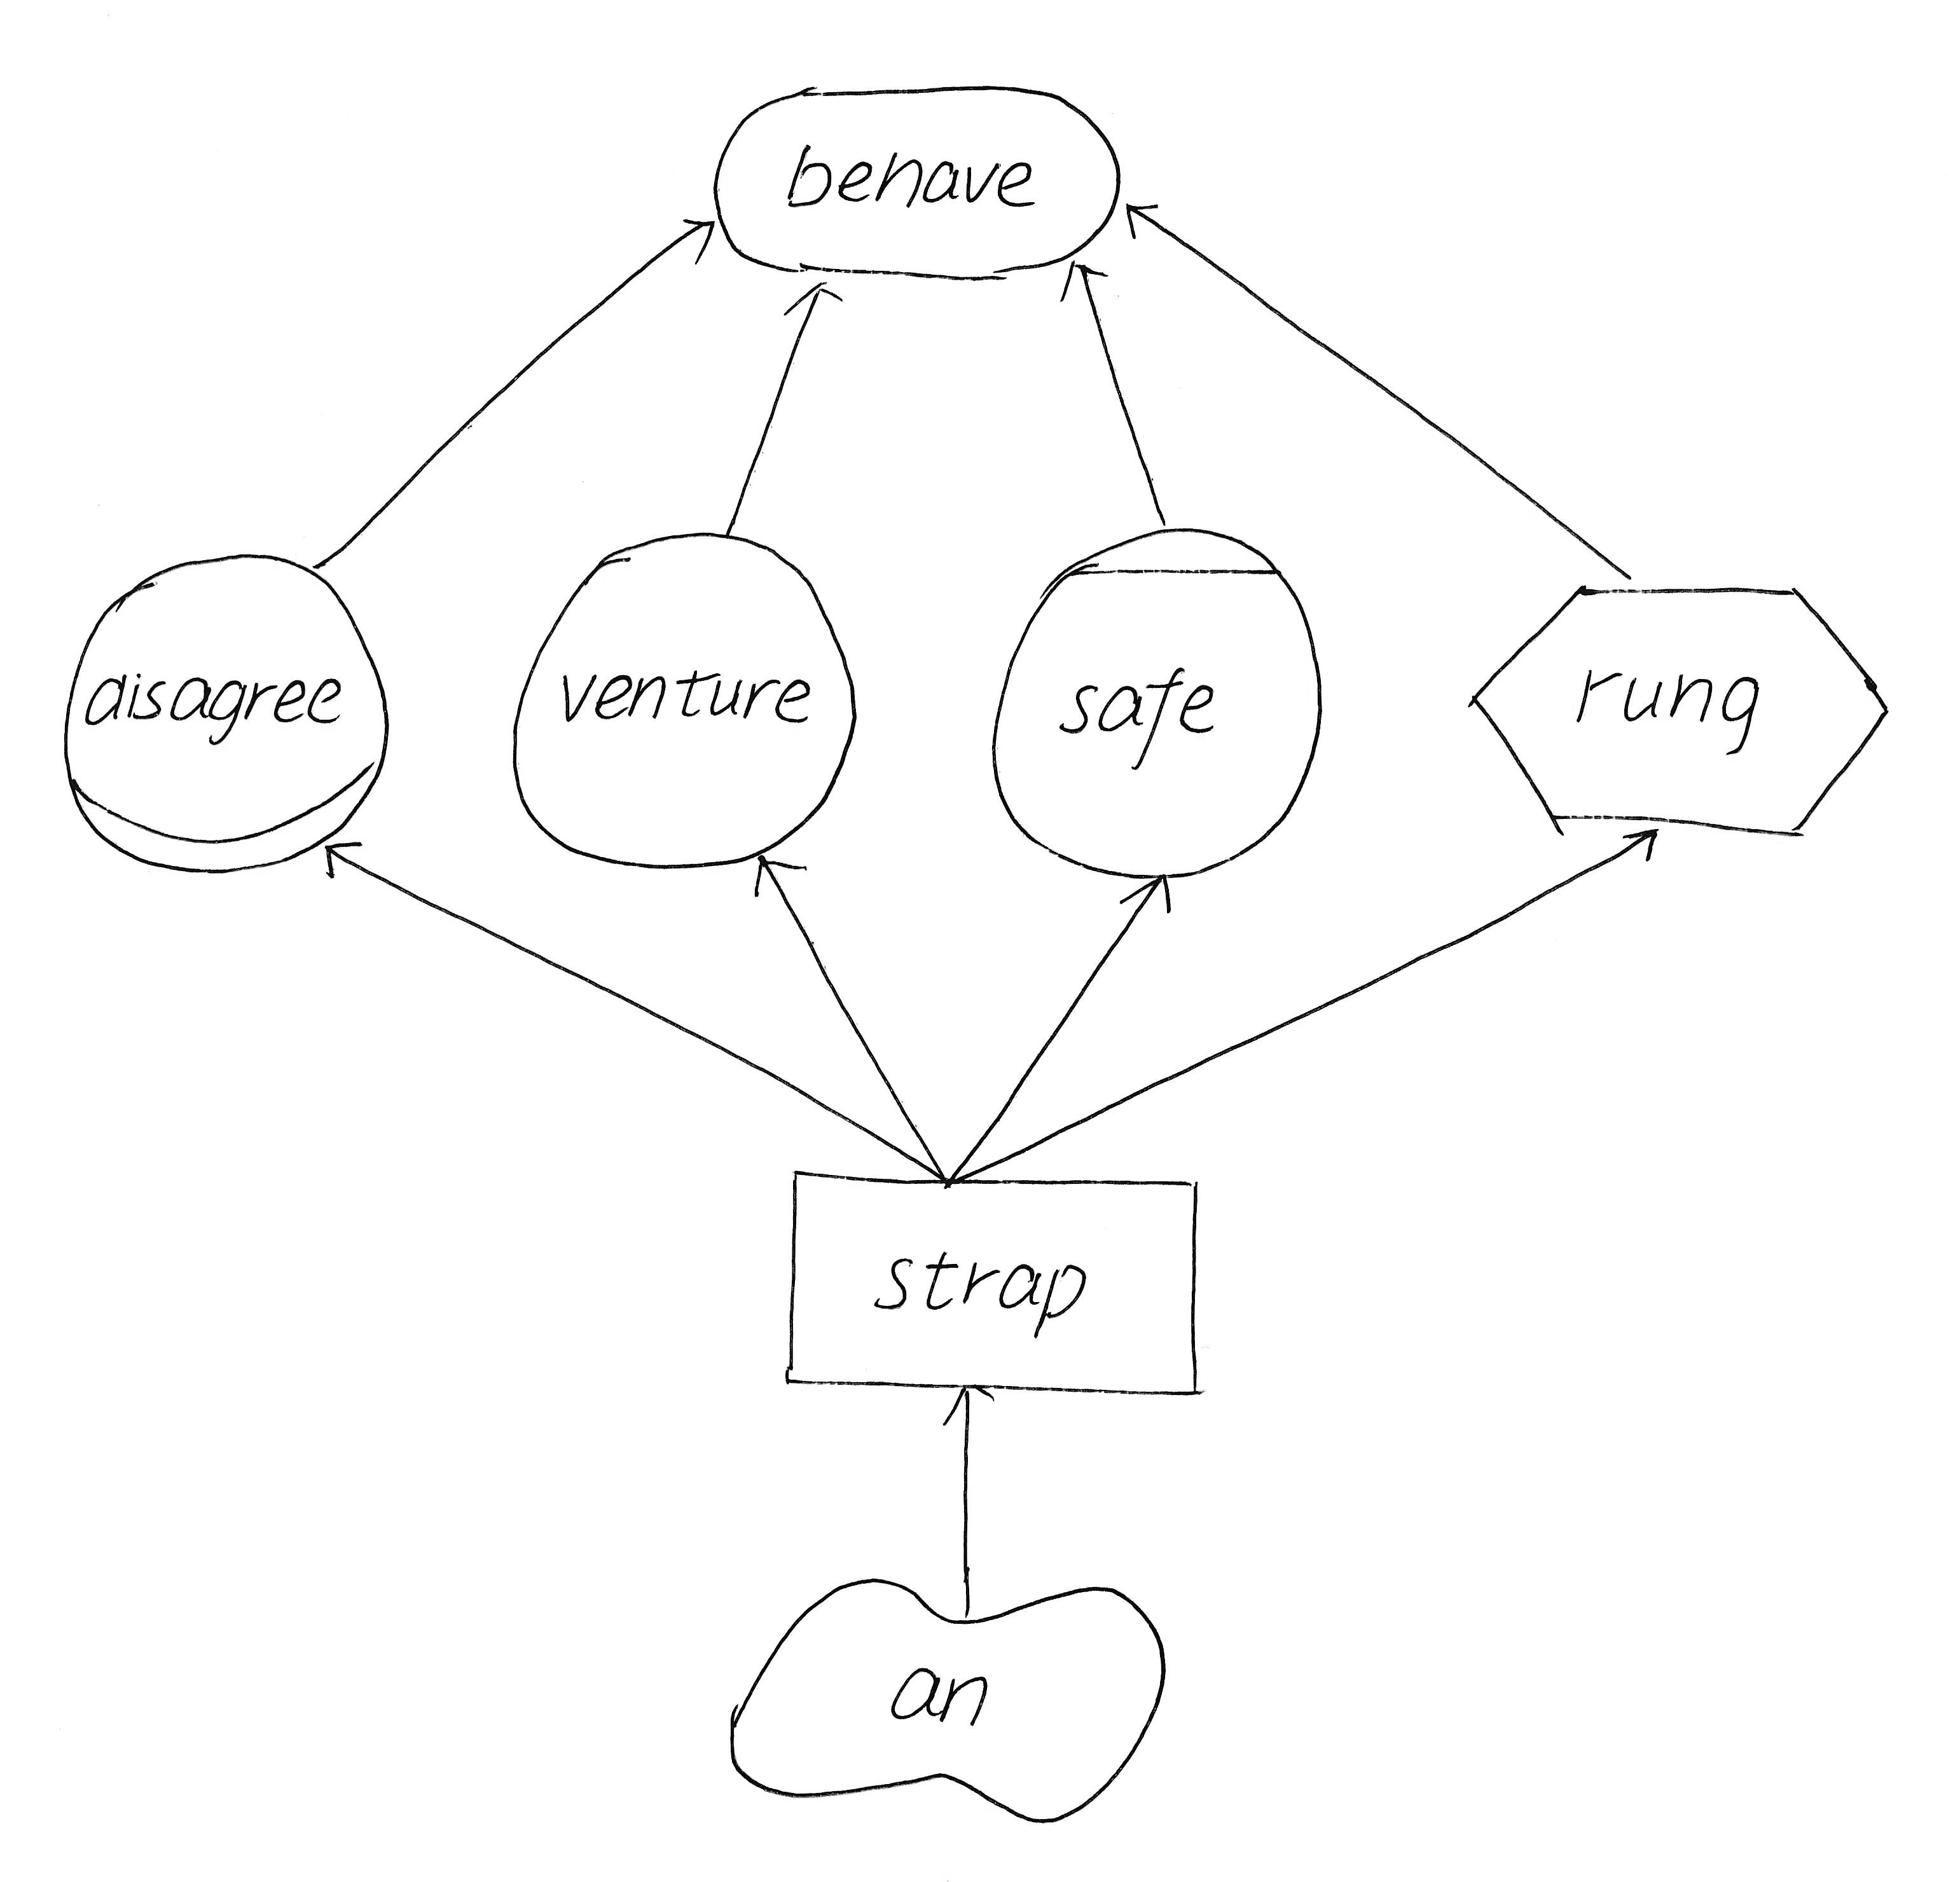actor: (495, 518, 882, 890)
agent: (970, 511, 1339, 894)
arrow: (740, 841, 826, 911), (1106, 866, 1192, 927), (933, 1371, 1005, 1438), (1610, 813, 1683, 878), (1045, 250, 1115, 311), (305, 824, 374, 885), (777, 268, 842, 325), (675, 203, 730, 269), (1115, 194, 1178, 243)
goal: (703, 68, 1138, 290)
quality: (705, 1557, 1192, 1842)
resource: (760, 1149, 1223, 1418)
role: (40, 535, 403, 892)
task: (1447, 563, 1911, 857)
